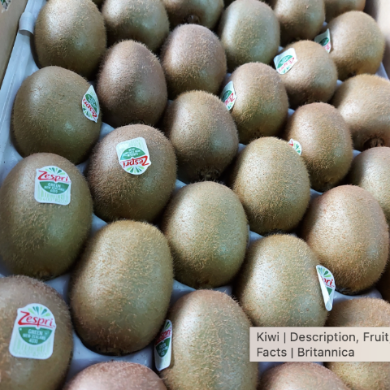kiwi: (59, 205, 183, 358), (233, 223, 338, 346), (2, 146, 100, 275), (144, 279, 258, 389), (299, 177, 390, 309), (227, 128, 315, 240), (88, 32, 172, 141), (95, 120, 176, 225), (277, 97, 354, 193), (216, 59, 296, 144), (167, 81, 242, 167)
